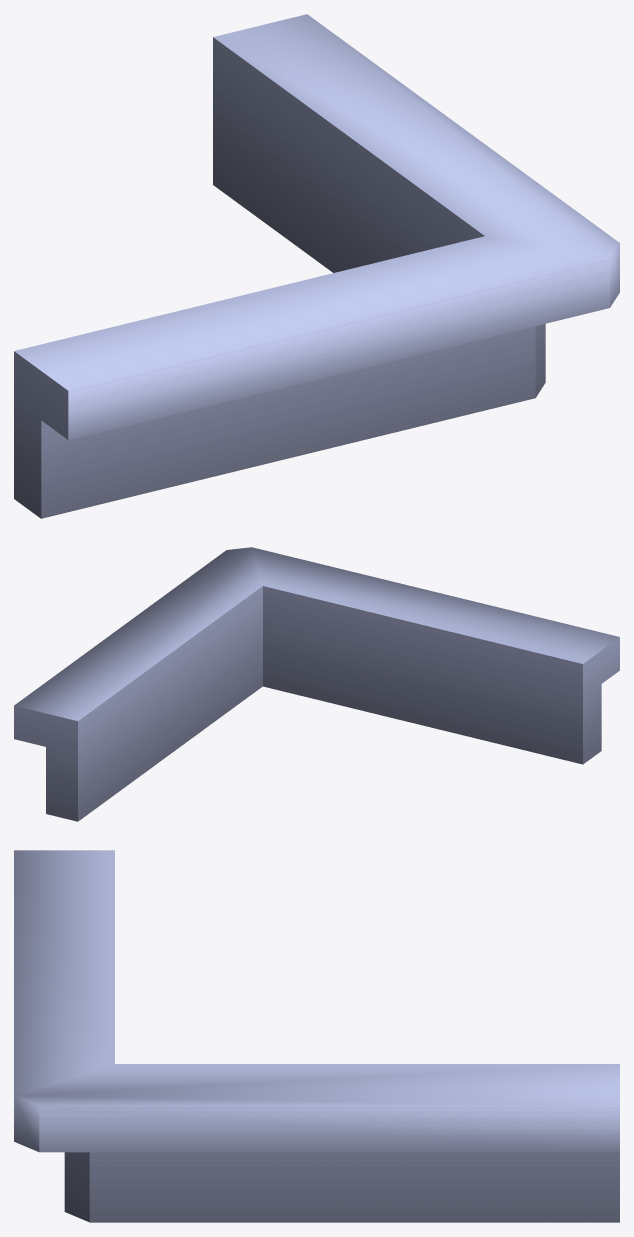
The model's file is border-corner-small.glb.
3 views of the same model, one above another, from view 1: azimuth 30°, elevation 25°; view 2: azimuth 150°, elevation 25°; view 3: azimuth 270°, elevation 25° (orthographic). The views are drawn at different scales.
Parts seen in each view (by area): view 1: border-corner-small; view 2: border-corner-small; view 3: border-corner-small.
Boxes of the visible parts, x1,y1,x2,y2 form: border-corner-small: (14,14,619,518); border-corner-small: (14,547,619,821); border-corner-small: (14,850,619,1222).
Bounding box in the file's own units: 1.2 × 0.3 × 1.2.
1 material, 1 textured.
